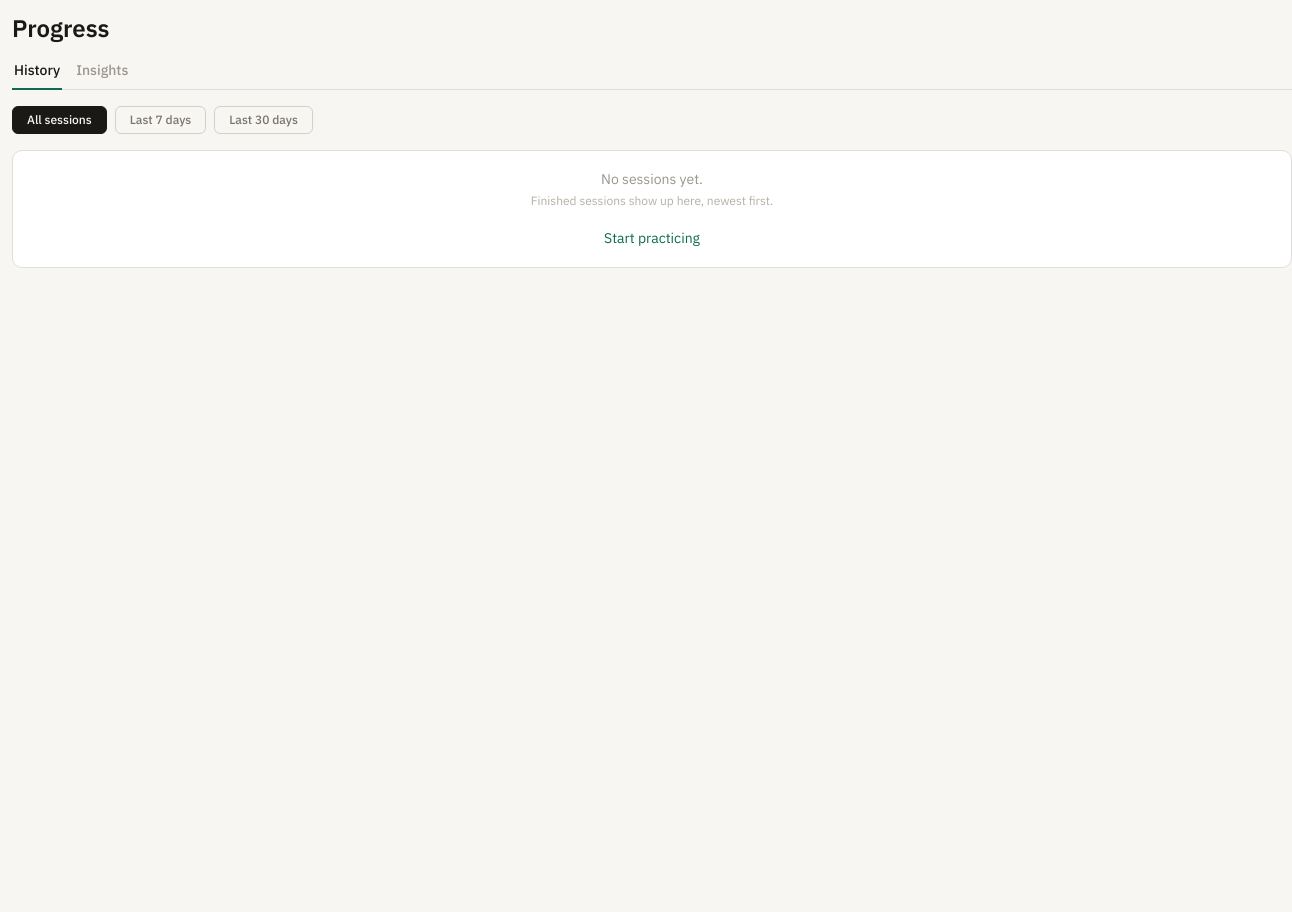
Test: ProgressPage › renders Insights for the selected instrument
Click the tab "Insights" at (102, 75), box x1=74 y1=60 x2=130 y2=90
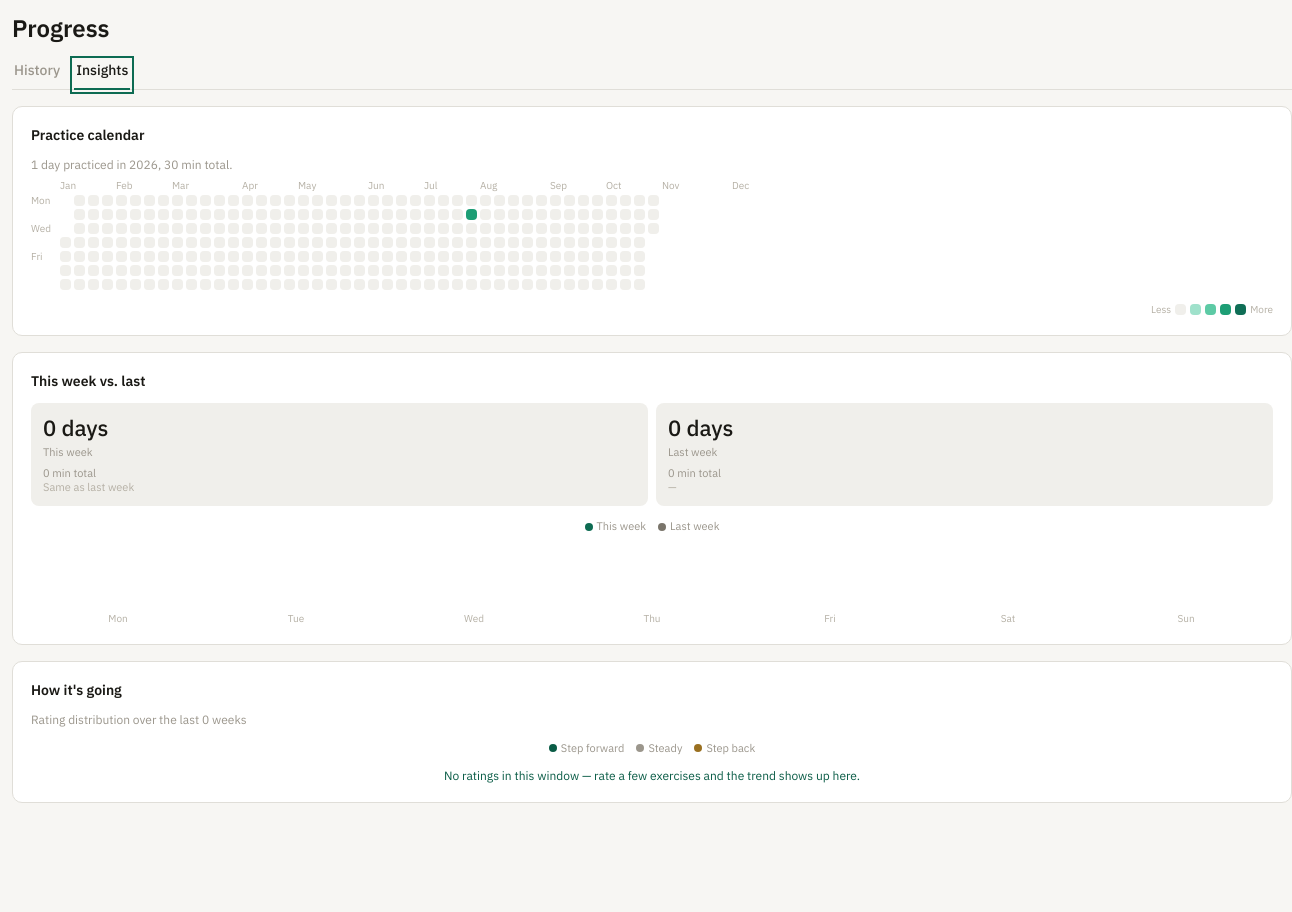
Now the heading "Practice calendar" is shown, box x1=31 y1=126 x2=144 y2=144
Now the radio button labelled "All sessions" is gone
